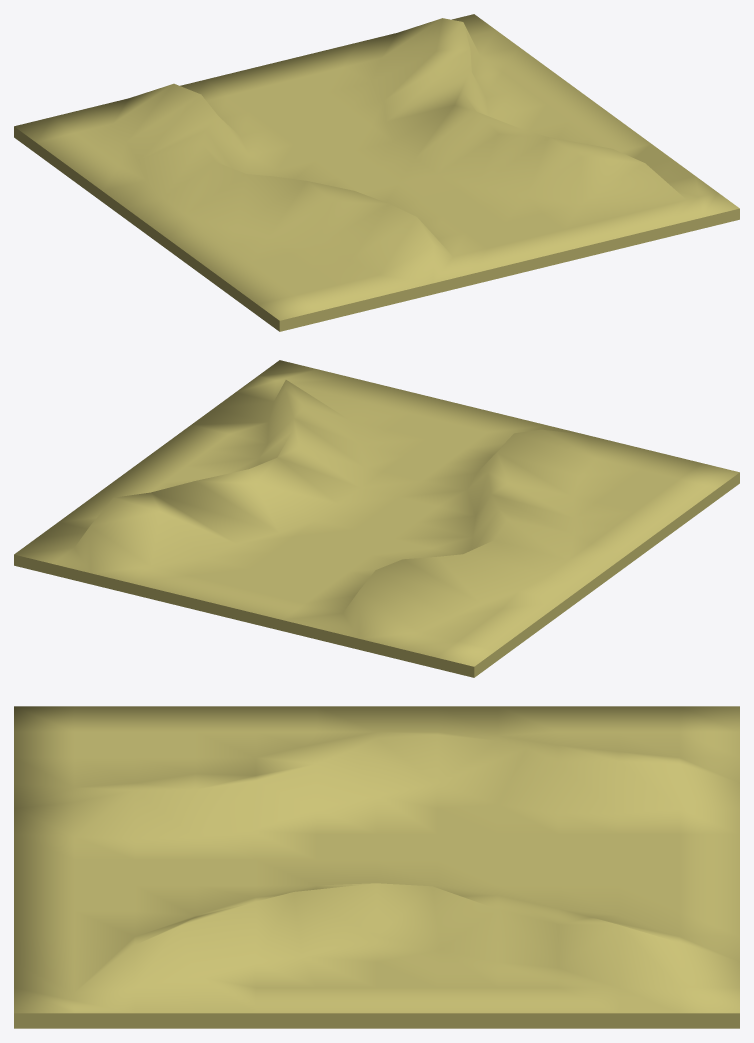
File: Desert IV.fbx
The picture shows the model from 3 angles, top to bottom: view 1: azimuth 30°, elevation 25°; view 2: azimuth 150°, elevation 25°; view 3: azimuth 270°, elevation 25°; orthographic projection. The views are drawn at different scales.
Parts seen in each view (by area): view 1: Desert IV; view 2: Desert IV; view 3: Desert IV.
Part boxes in pixels (box(x1,y1,x2,y2)): Desert IV: box(14, 14, 739, 331); Desert IV: box(14, 360, 739, 677); Desert IV: box(14, 706, 739, 1028).
Size of the model in its own units: 1600 by 163 by 1600.
